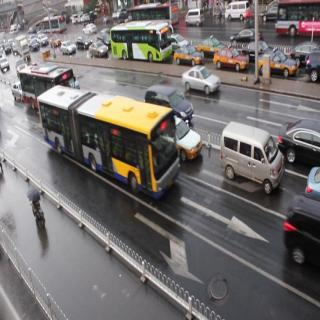BigCar: (45, 85, 182, 203), (109, 20, 168, 68), (18, 64, 79, 108), (277, 0, 320, 44)
Car: (222, 114, 285, 194), (289, 191, 320, 280), (282, 111, 320, 170), (172, 105, 202, 175), (147, 78, 192, 120), (185, 63, 221, 103), (260, 47, 298, 77), (218, 44, 251, 73), (171, 44, 203, 69), (233, 25, 266, 45), (91, 38, 108, 63), (200, 35, 222, 53)
